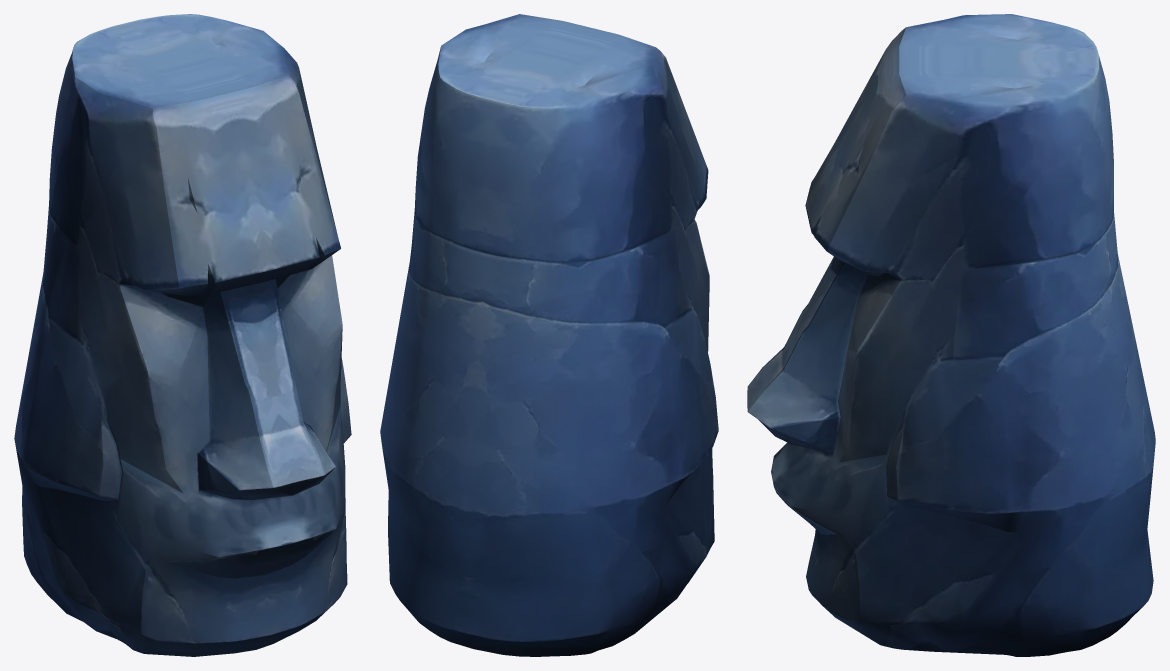
Rendered from moai-head-lite-v1.glb.
3 views of the same model, side by side, from view 1: azimuth 30°, elevation 25°; view 2: azimuth 150°, elevation 25°; view 3: azimuth 270°, elevation 25° (orthographic).
Visible parts, largest first — view 1: defaultMaterial; view 2: defaultMaterial; view 3: defaultMaterial.
Boxes of the visible parts, x1,y1,x2,y2 form: defaultMaterial: [14, 14, 351, 656]; defaultMaterial: [380, 14, 718, 656]; defaultMaterial: [747, 14, 1155, 656].
Size of the model in its own units: 55.69 by 98.55 by 66.36.
Materials: 1 (1 with a texture image).
